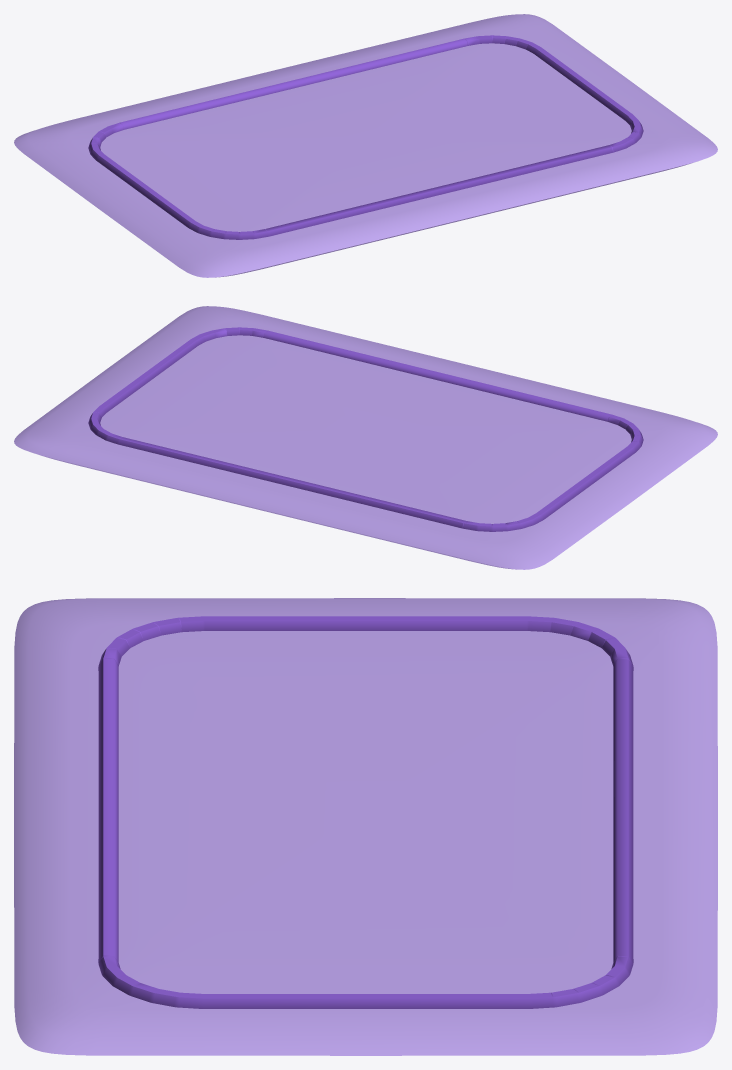
Rendered from tapete_retangular_lilas.glb.
The picture shows the model from 3 angles, top to bottom: view 1: azimuth 30°, elevation 25°; view 2: azimuth 150°, elevation 25°; view 3: azimuth 270°, elevation 25°; orthographic projection. The views are drawn at different scales.
Parts seen in each view (by area): view 1: tapete_retangular_lilas; view 2: tapete_retangular_lilas; view 3: tapete_retangular_lilas.
Part boxes in pixels (box(x1,y1,x2,y2)): tapete_retangular_lilas: box(14, 14, 717, 277); tapete_retangular_lilas: box(14, 306, 717, 569); tapete_retangular_lilas: box(14, 598, 717, 1055).
Bounding box in the file's own units: 0.8 × 0.0269 × 0.52.
1 material, 1 textured.
